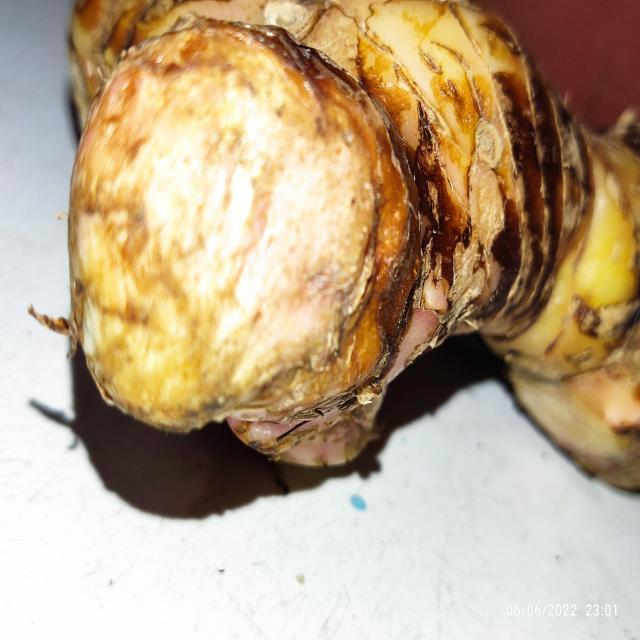ginger: (70, 0, 640, 476)
